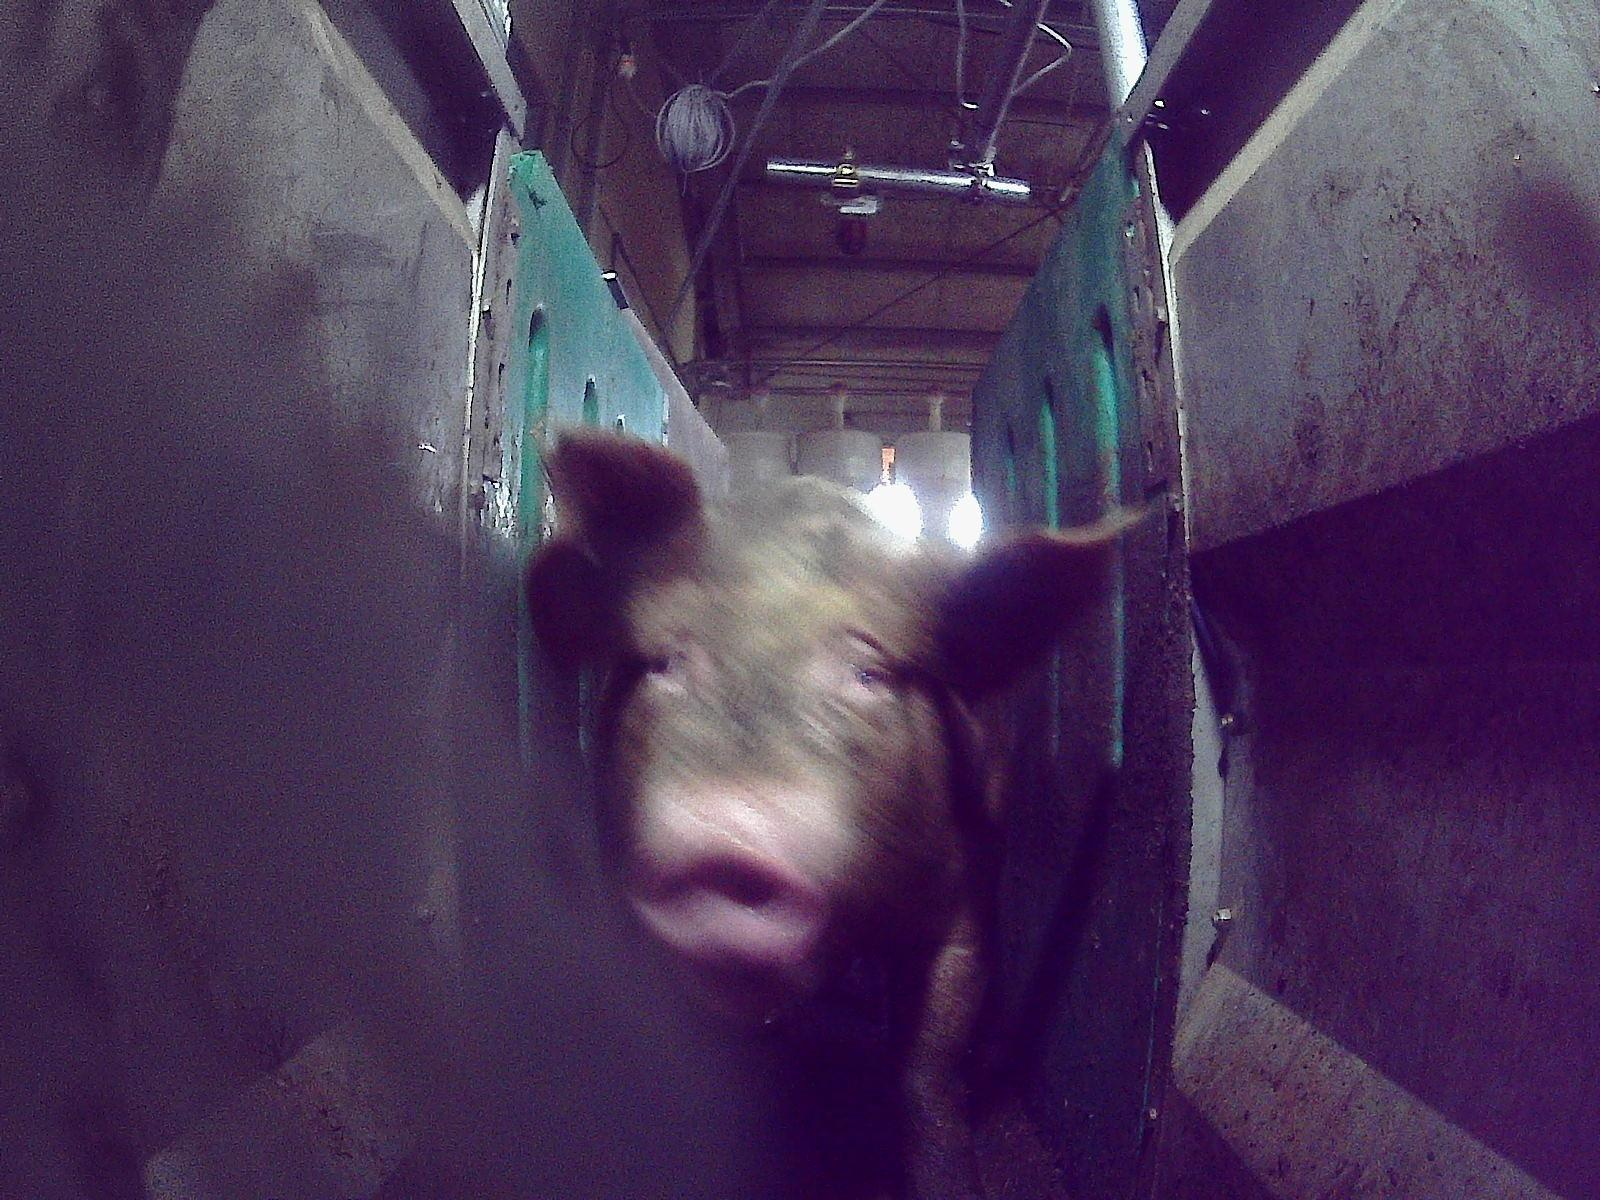Face: (606, 509, 953, 1017)
